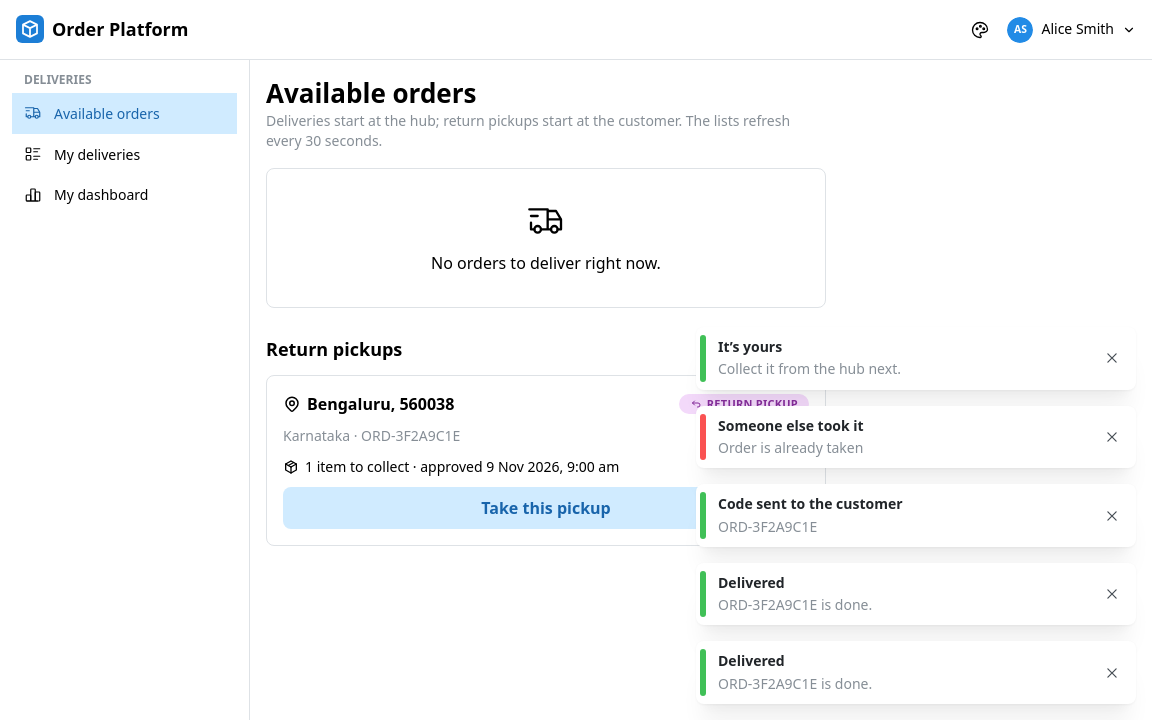
Test: return pickups › shows pickups beside orders, and takes one
Step 1. Click the button "Take this pickup" → (546, 508), box [283, 487, 809, 529]
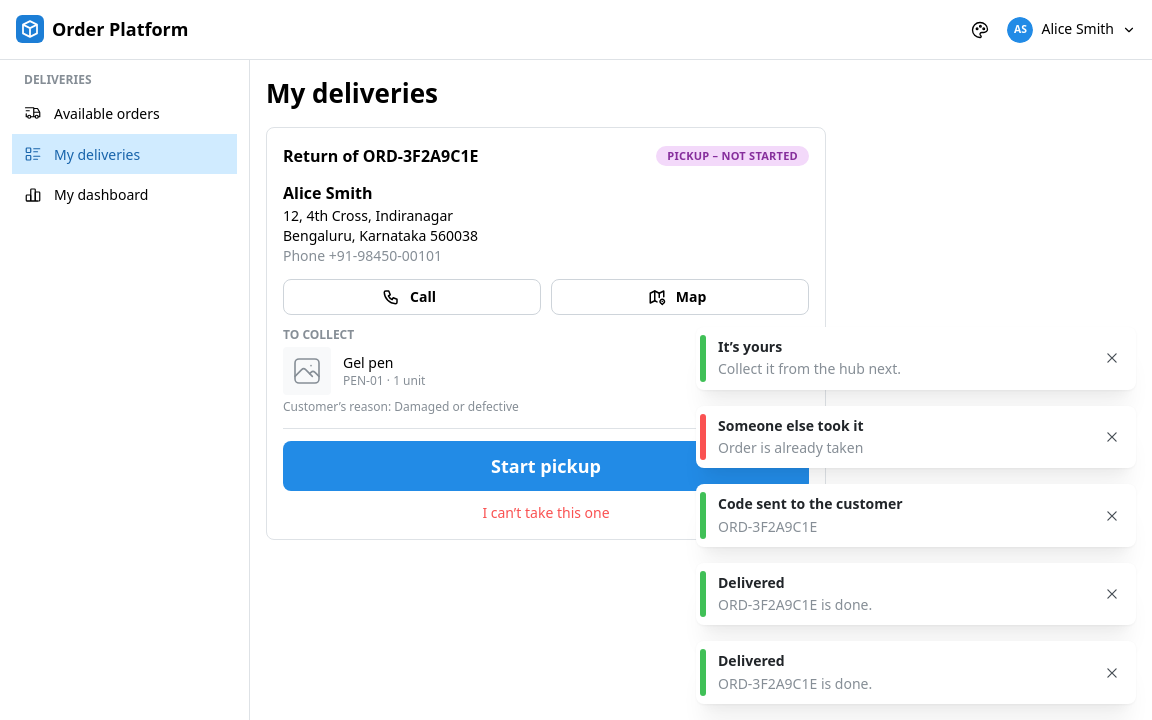
Result: the button "Start pickup" is shown at [283, 441, 809, 491]
Result: the text "Customer’s reason: Damaged or defective" is shown at [283, 398, 519, 415]
